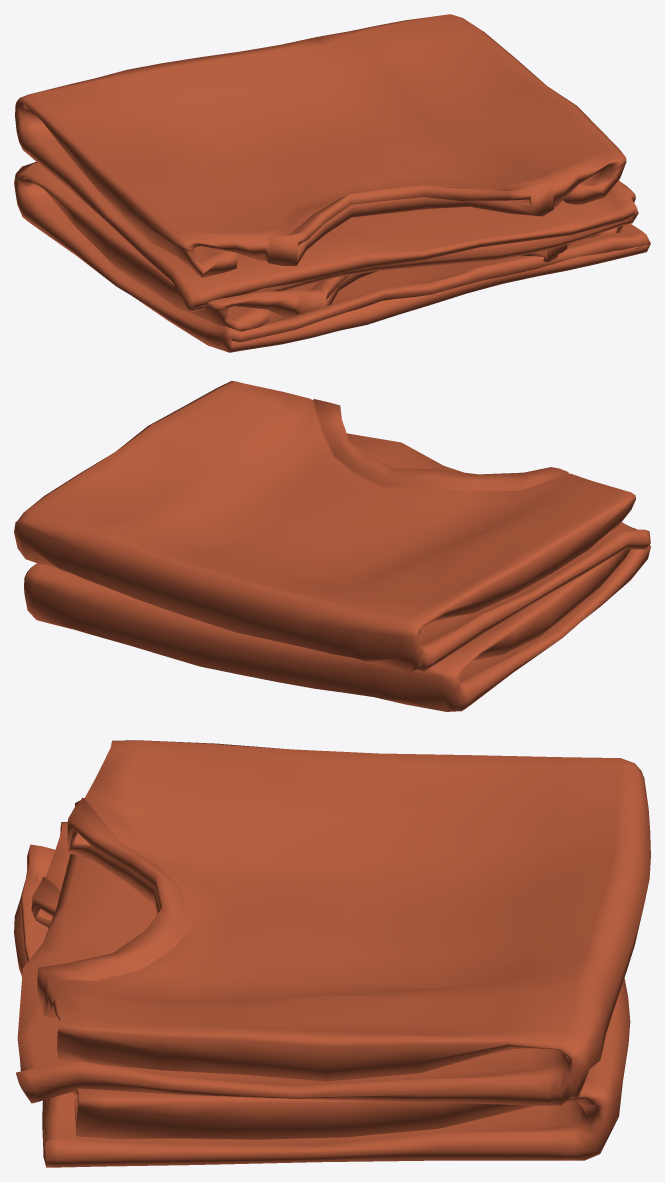
The model's file is baju.fbx.
3 renders of one model, top to bottom at view 1: azimuth 30°, elevation 25°; view 2: azimuth 150°, elevation 25°; view 3: azimuth 270°, elevation 25°, orthographic. The views are drawn at different scales.
Visible parts, largest first — view 1: baju; view 2: baju; view 3: baju.
Part boxes in pixels (<box>): baju: <box>14,14,650,352</box>; baju: <box>14,381,650,711</box>; baju: <box>14,740,650,1167</box>.
Size of the model in its own units: 38.34 by 8.12 by 33.9.
